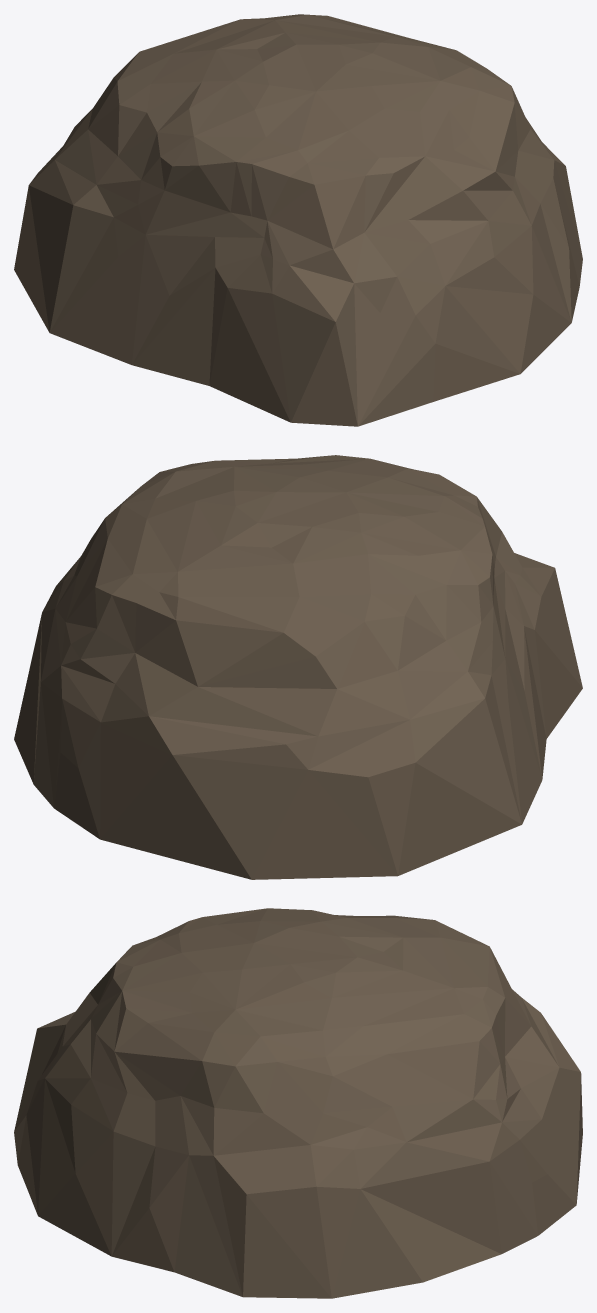
The model's file is samurai_SM_Gen_Env_Ground_River_Dirt_07.gltf.
The picture shows the model from 3 angles, top to bottom: view 1: azimuth 30°, elevation 25°; view 2: azimuth 150°, elevation 25°; view 3: azimuth 270°, elevation 25°; orthographic projection. The views are drawn at different scales.
Visible parts, largest first — view 1: SM_Gen_Env_Ground_River_Dirt_07; view 2: SM_Gen_Env_Ground_River_Dirt_07; view 3: SM_Gen_Env_Ground_River_Dirt_07.
Boxes of the visible parts, x1,y1,x2,y2 form: SM_Gen_Env_Ground_River_Dirt_07: (14,14,582,426); SM_Gen_Env_Ground_River_Dirt_07: (14,455,582,879); SM_Gen_Env_Ground_River_Dirt_07: (14,908,582,1298).
Size of the model in its own units: 7.63 by 3.49 by 7.84.
1 material, 1 textured.
